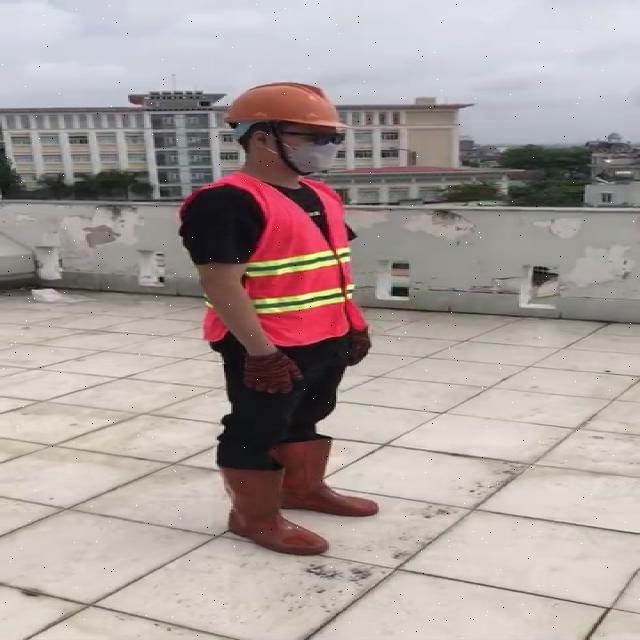Hard_hat: (216, 78, 353, 145)
Vest: (235, 171, 353, 344)
